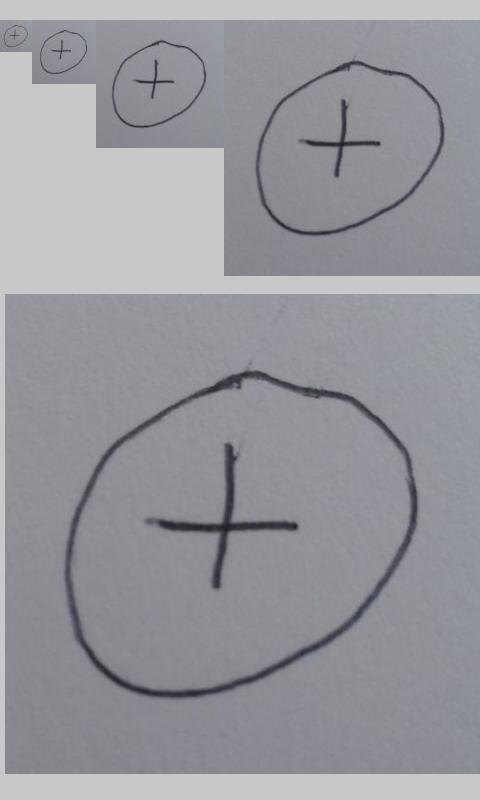button: (63, 370, 420, 701), (254, 60, 446, 237), (111, 39, 208, 129), (39, 29, 88, 75), (3, 24, 29, 48)
